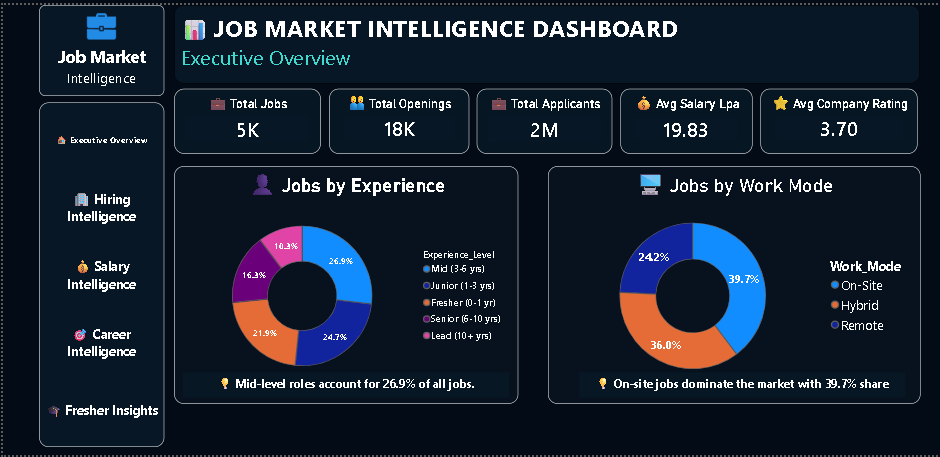

The page's visual inventory and layout, read from the dashboard file:
{"tool":"powerbi","page":{"name":"🏠 Executive Overview","canvas":[1500,720],"ordinal":0},"visuals":[{"type":"cardVisual","title":"💼 Total Jobs","fields":{"Data":["CountNonNull(india_job_market_2024_2026.Job_ID)"]},"box":[274.3,134.3,234.3,104.3],"z":0},{"type":"cardVisual","title":"👨👨 Total Openings","fields":{"Data":["Sum(india_job_market_2024_2026.Openings)"]},"box":[521.4,134.3,224.3,104.3],"z":1000},{"type":"cardVisual","title":"💰 Avg Salary Lpa","fields":{"Data":["Avg(india_job_market_2024_2026.Salary_LPA)"]},"box":[987.1,134.3,211.4,104.3],"z":2000},{"type":"cardVisual","title":"⭐ Avg Company Rating","fields":{"Data":["Avg(india_job_market_2024_2026.Company_Rating)"]},"box":[1211.4,134.3,251.4,104.3],"z":3000},{"type":"donutChart","title":"👤 Jobs by Experience","fields":{"Category":["india_job_market_2024_2026.Experience_Level"],"Y":["Sum(india_job_market_2024_2026.Openings)"]},"box":[274.3,258.6,550,380],"z":4000},{"type":"donutChart","title":"🖥️ Jobs by Work Mode","fields":{"Category":["india_job_market_2024_2026.Work_Mode"],"Y":["Sum(india_job_market_2024_2026.Openings)"]},"box":[871.4,258.6,595.7,380],"z":5000},{"type":"pageNavigator","box":[58.6,155.7,200,551.4],"z":6000},{"type":"cardVisual","title":"💼 Total Applicants","fields":{"Data":["Sum(india_job_market_2024_2026.Applicants)"]},"box":[758.6,134.3,217.1,104.3],"z":7000},{"type":"textbox","box":[274.3,0,1192.9,125.7],"z":8000},{"type":"textbox","box":[58.6,0,200,145.7],"z":9000},{"type":"image","box":[114.3,7.1,87.1,55.7],"z":10000},{"type":"textbox","box":[288.6,587.1,521.4,40],"z":11000},{"type":"textbox","box":[922.9,587.1,521.4,40],"z":12000}]}

Visuals, with their boxes in screenshot pixels (x1, y1, x2, y2), scaled from the page's 1500x720 canvas onto the 940x457 screenshot:
"💼 Total Jobs" cardVisual: [172,85,319,151]
"👨👨 Total Openings" cardVisual: [327,85,467,151]
"💰 Avg Salary Lpa" cardVisual: [619,85,751,151]
"⭐ Avg Company Rating" cardVisual: [759,85,917,151]
"👤 Jobs by Experience" donutChart: [172,164,517,405]
"🖥️ Jobs by Work Mode" donutChart: [546,164,919,405]
pageNavigator: [37,99,162,449]
"💼 Total Applicants" cardVisual: [475,85,611,151]
textbox: [172,0,919,80]
textbox: [37,0,162,92]
image: [72,5,126,40]
textbox: [181,373,508,398]
textbox: [578,373,905,398]
